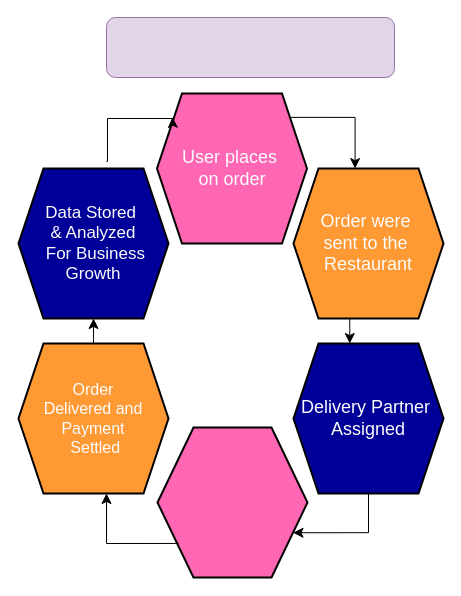
The diagram is 461 pixels wide and 596 high, and some of its shapes have lost their labels. Each missing label, with the box of its shape:
Food Delivery with devOps Lifecycle: (106, 16, 394, 78)
Realtime Tracking & Route Optimization: (156, 426, 308, 578)
